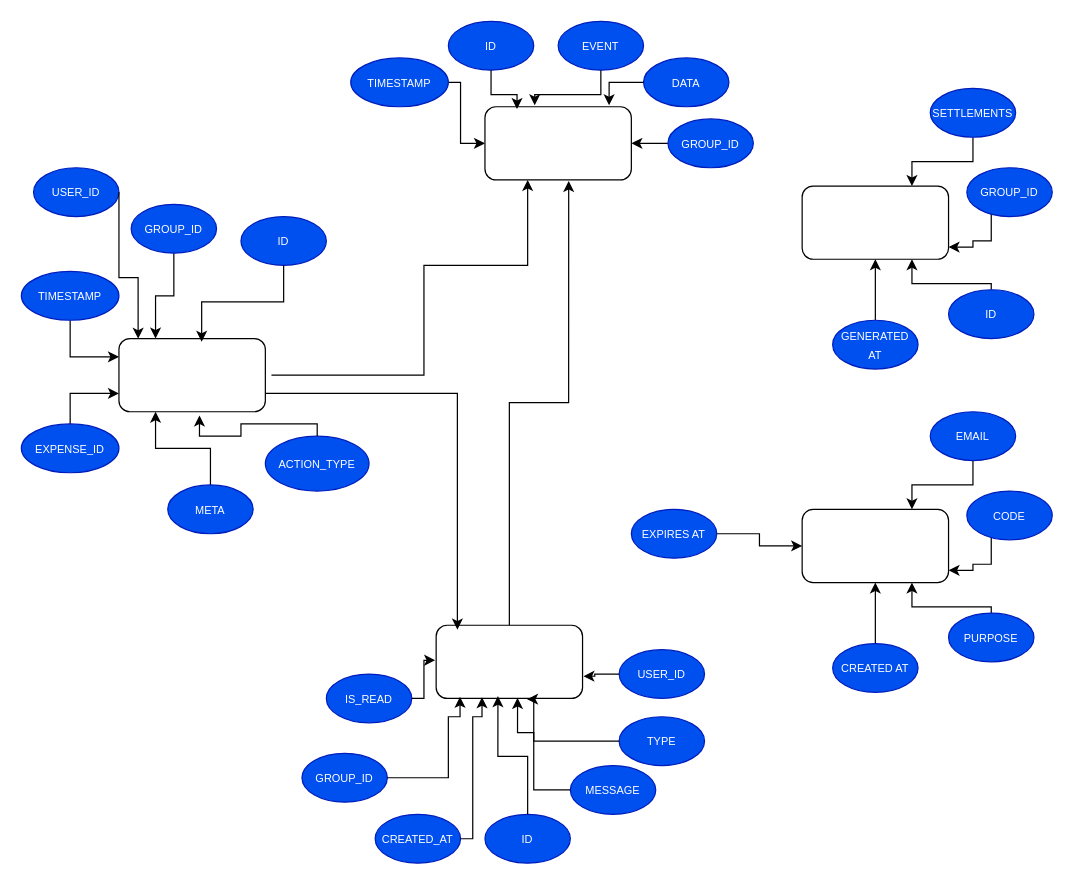
Image size: 1074x885. Some labels were removed from this diagram. The shapes that lost their labels are listed below. From the top down, each one's box as (x1, y1, x2, y2) in pixels, then its label:
(484, 106, 631, 180): REALTIME UPDATES
(801, 185, 949, 259): SETTLEMENT CACHE
(118, 337, 265, 412): ACTIVITY LOGS
(801, 508, 949, 583): EmailOTP
(435, 624, 583, 698): NOTIFICATIONS
